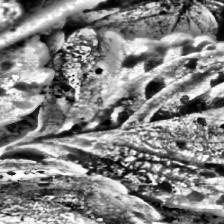Angular Leafspot: (5, 26, 224, 224), (0, 158, 201, 224), (0, 0, 67, 135)
